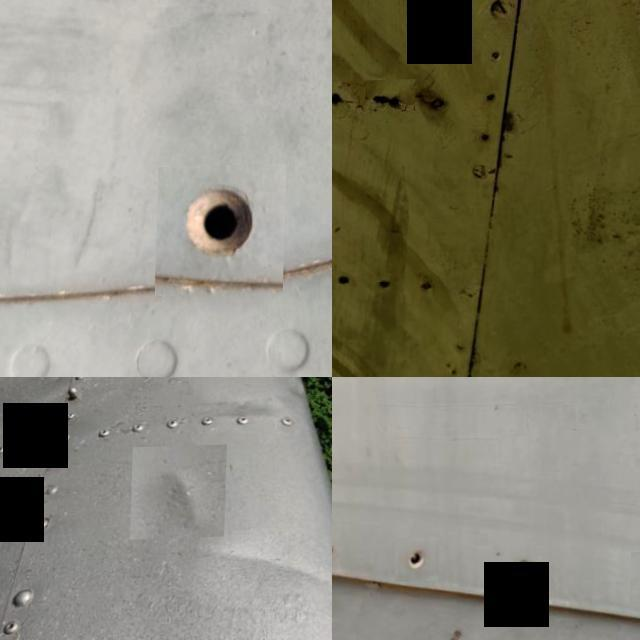Crack: (367, 82, 418, 126)
Dent: (190, 512, 332, 622), (132, 446, 229, 542)
Missing_Fastener: (158, 165, 289, 298), (500, 544, 552, 596), (396, 539, 442, 584), (332, 526, 352, 569)
